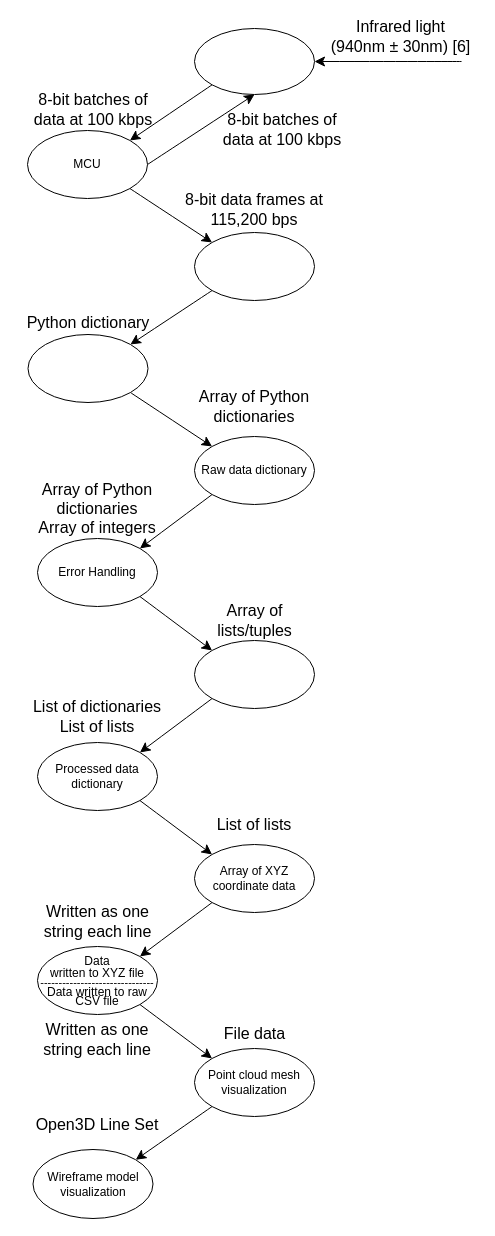
Some shapes in this 495 by 1236 pixel diagram are drawn without their labels. Each missing label, with the box of its shape:
Data parsing function: (194, 232, 314, 300)
Main data processing: (27, 334, 148, 402)
Secondary error corretion: (194, 640, 314, 708)
ToF sensor: (194, 28, 314, 94)
